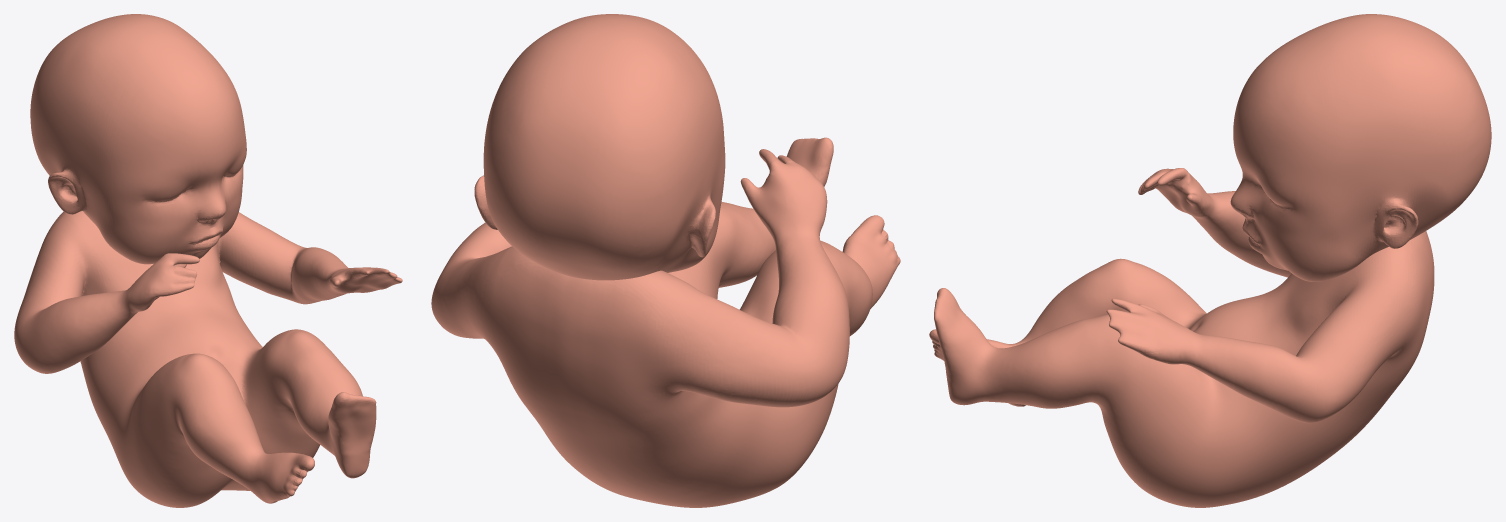
The model's file is baby_trimester_3.glb.
3 renders of one model, left to right at view 1: azimuth 30°, elevation 25°; view 2: azimuth 150°, elevation 25°; view 3: azimuth 270°, elevation 25°, orthographic. The views are drawn at different scales.
Visible parts, largest first — view 1: babytesta_obj_1, babycorpo_obj_1__0.003, babycorpo_obj_1__0.002, babycorpo_obj_1__0.001, babycorpo_obj_1, babycorpo_obj_1__0.004; view 2: babytesta_obj_1, babycorpo_obj_1, babycorpo_obj_1__0.002, babycorpo_obj_1__0.001, babycorpo_obj_1__0.003; view 3: babytesta_obj_1, babycorpo_obj_1__0.002, babycorpo_obj_1__0.003, babycorpo_obj_1__0.001, babycorpo_obj_1, babycorpo_obj_1__0.004.
Part boxes in pixels (<box>): babytesta_obj_1: <box>30,14,246,264</box>; babycorpo_obj_1__0.003: <box>27,249,401,505</box>; babycorpo_obj_1__0.002: <box>17,246,380,507</box>; babycorpo_obj_1__0.001: <box>14,212,303,506</box>; babycorpo_obj_1: <box>26,211,402,502</box>; babycorpo_obj_1__0.004: <box>19,262,402,497</box>; babytesta_obj_1: <box>474,14,725,280</box>; babycorpo_obj_1: <box>446,137,900,477</box>; babycorpo_obj_1__0.002: <box>443,149,849,507</box>; babycorpo_obj_1__0.001: <box>431,255,835,506</box>; babycorpo_obj_1__0.003: <box>474,138,900,496</box>; babytesta_obj_1: <box>1230,14,1491,281</box>; babycorpo_obj_1__0.002: <box>1148,168,1313,507</box>; babycorpo_obj_1__0.003: <box>929,172,1292,506</box>; babycorpo_obj_1__0.001: <box>1148,256,1370,496</box>; babycorpo_obj_1: <box>929,168,1434,425</box>; babycorpo_obj_1__0.004: <box>936,259,1421,487</box>.
Bounding box in the file's own units: 0.5148 × 0.669 × 0.7395.
